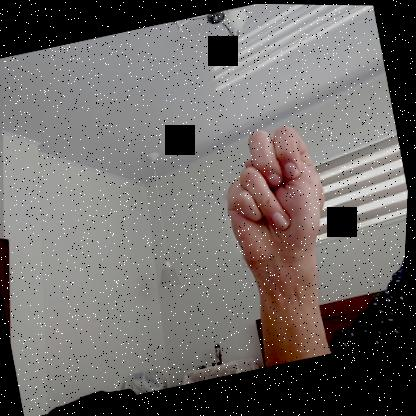N: (205, 115, 344, 283)
